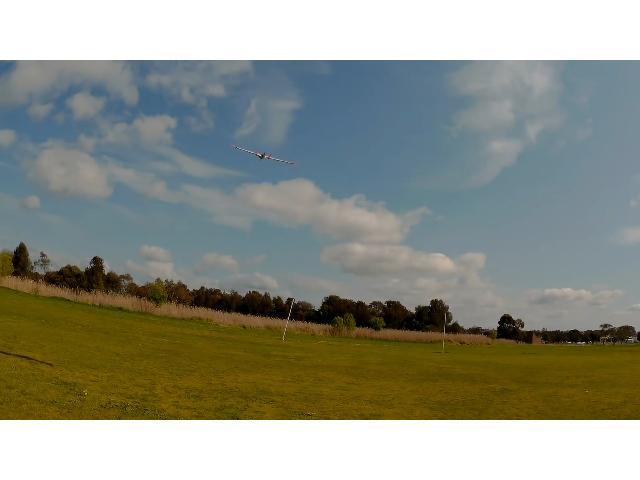Anti-Drone: (230, 144, 294, 168)
